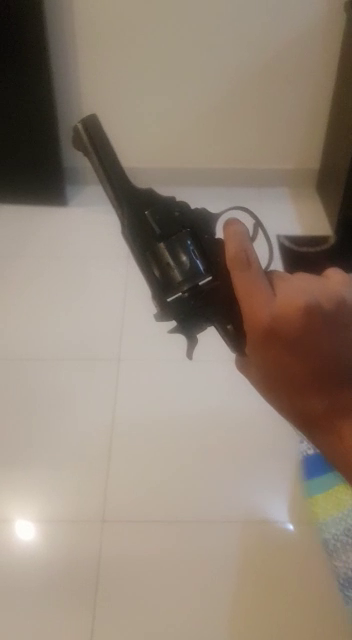handgun: (61, 102, 253, 365)
